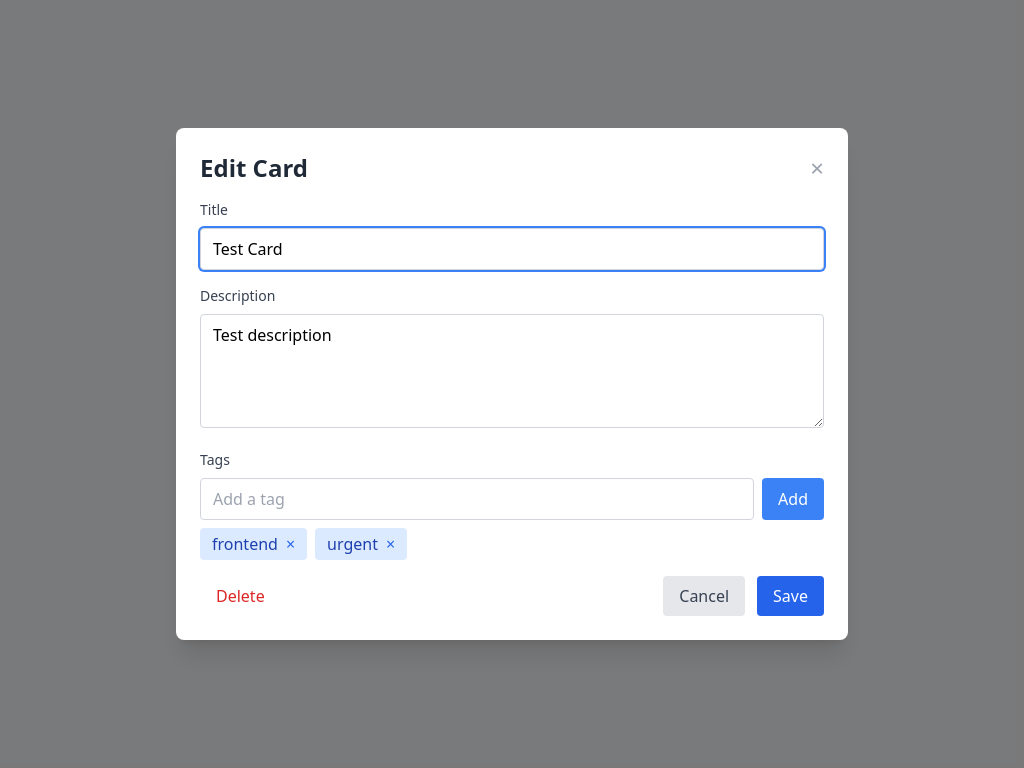
Scenario: CardDetailModal › should remove a tag
Step 1. Click the button named "remove tag" → [290, 544], box top-left (286, 532), bottom-right (295, 556)
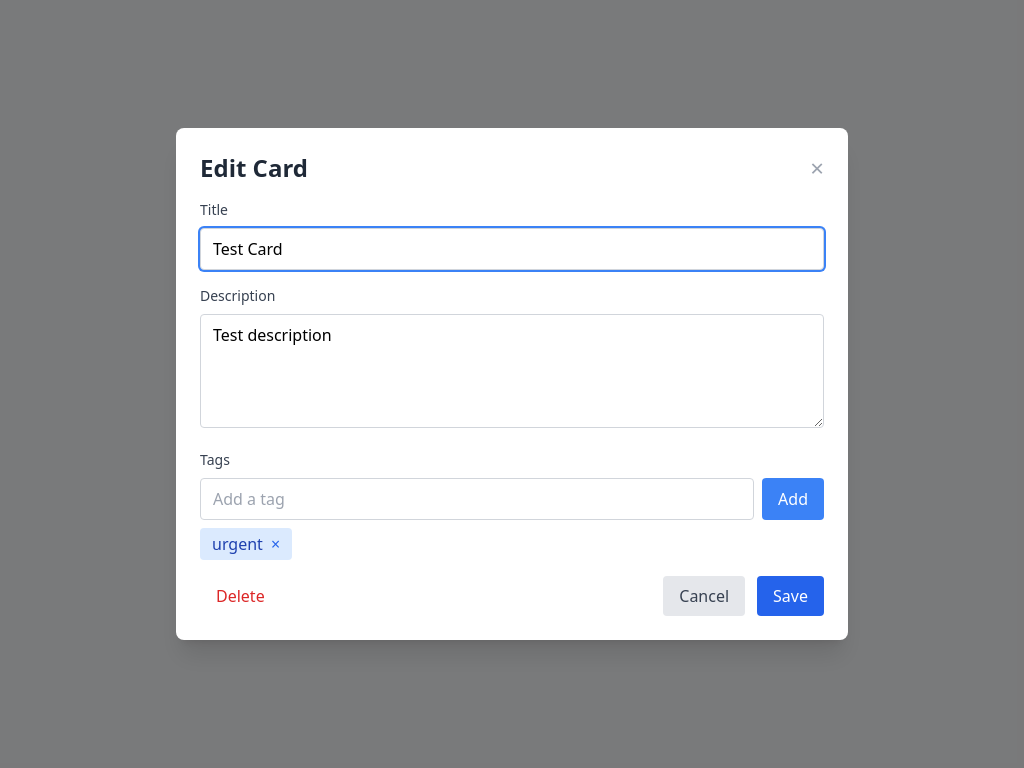
Result: the button "frontend" is gone
